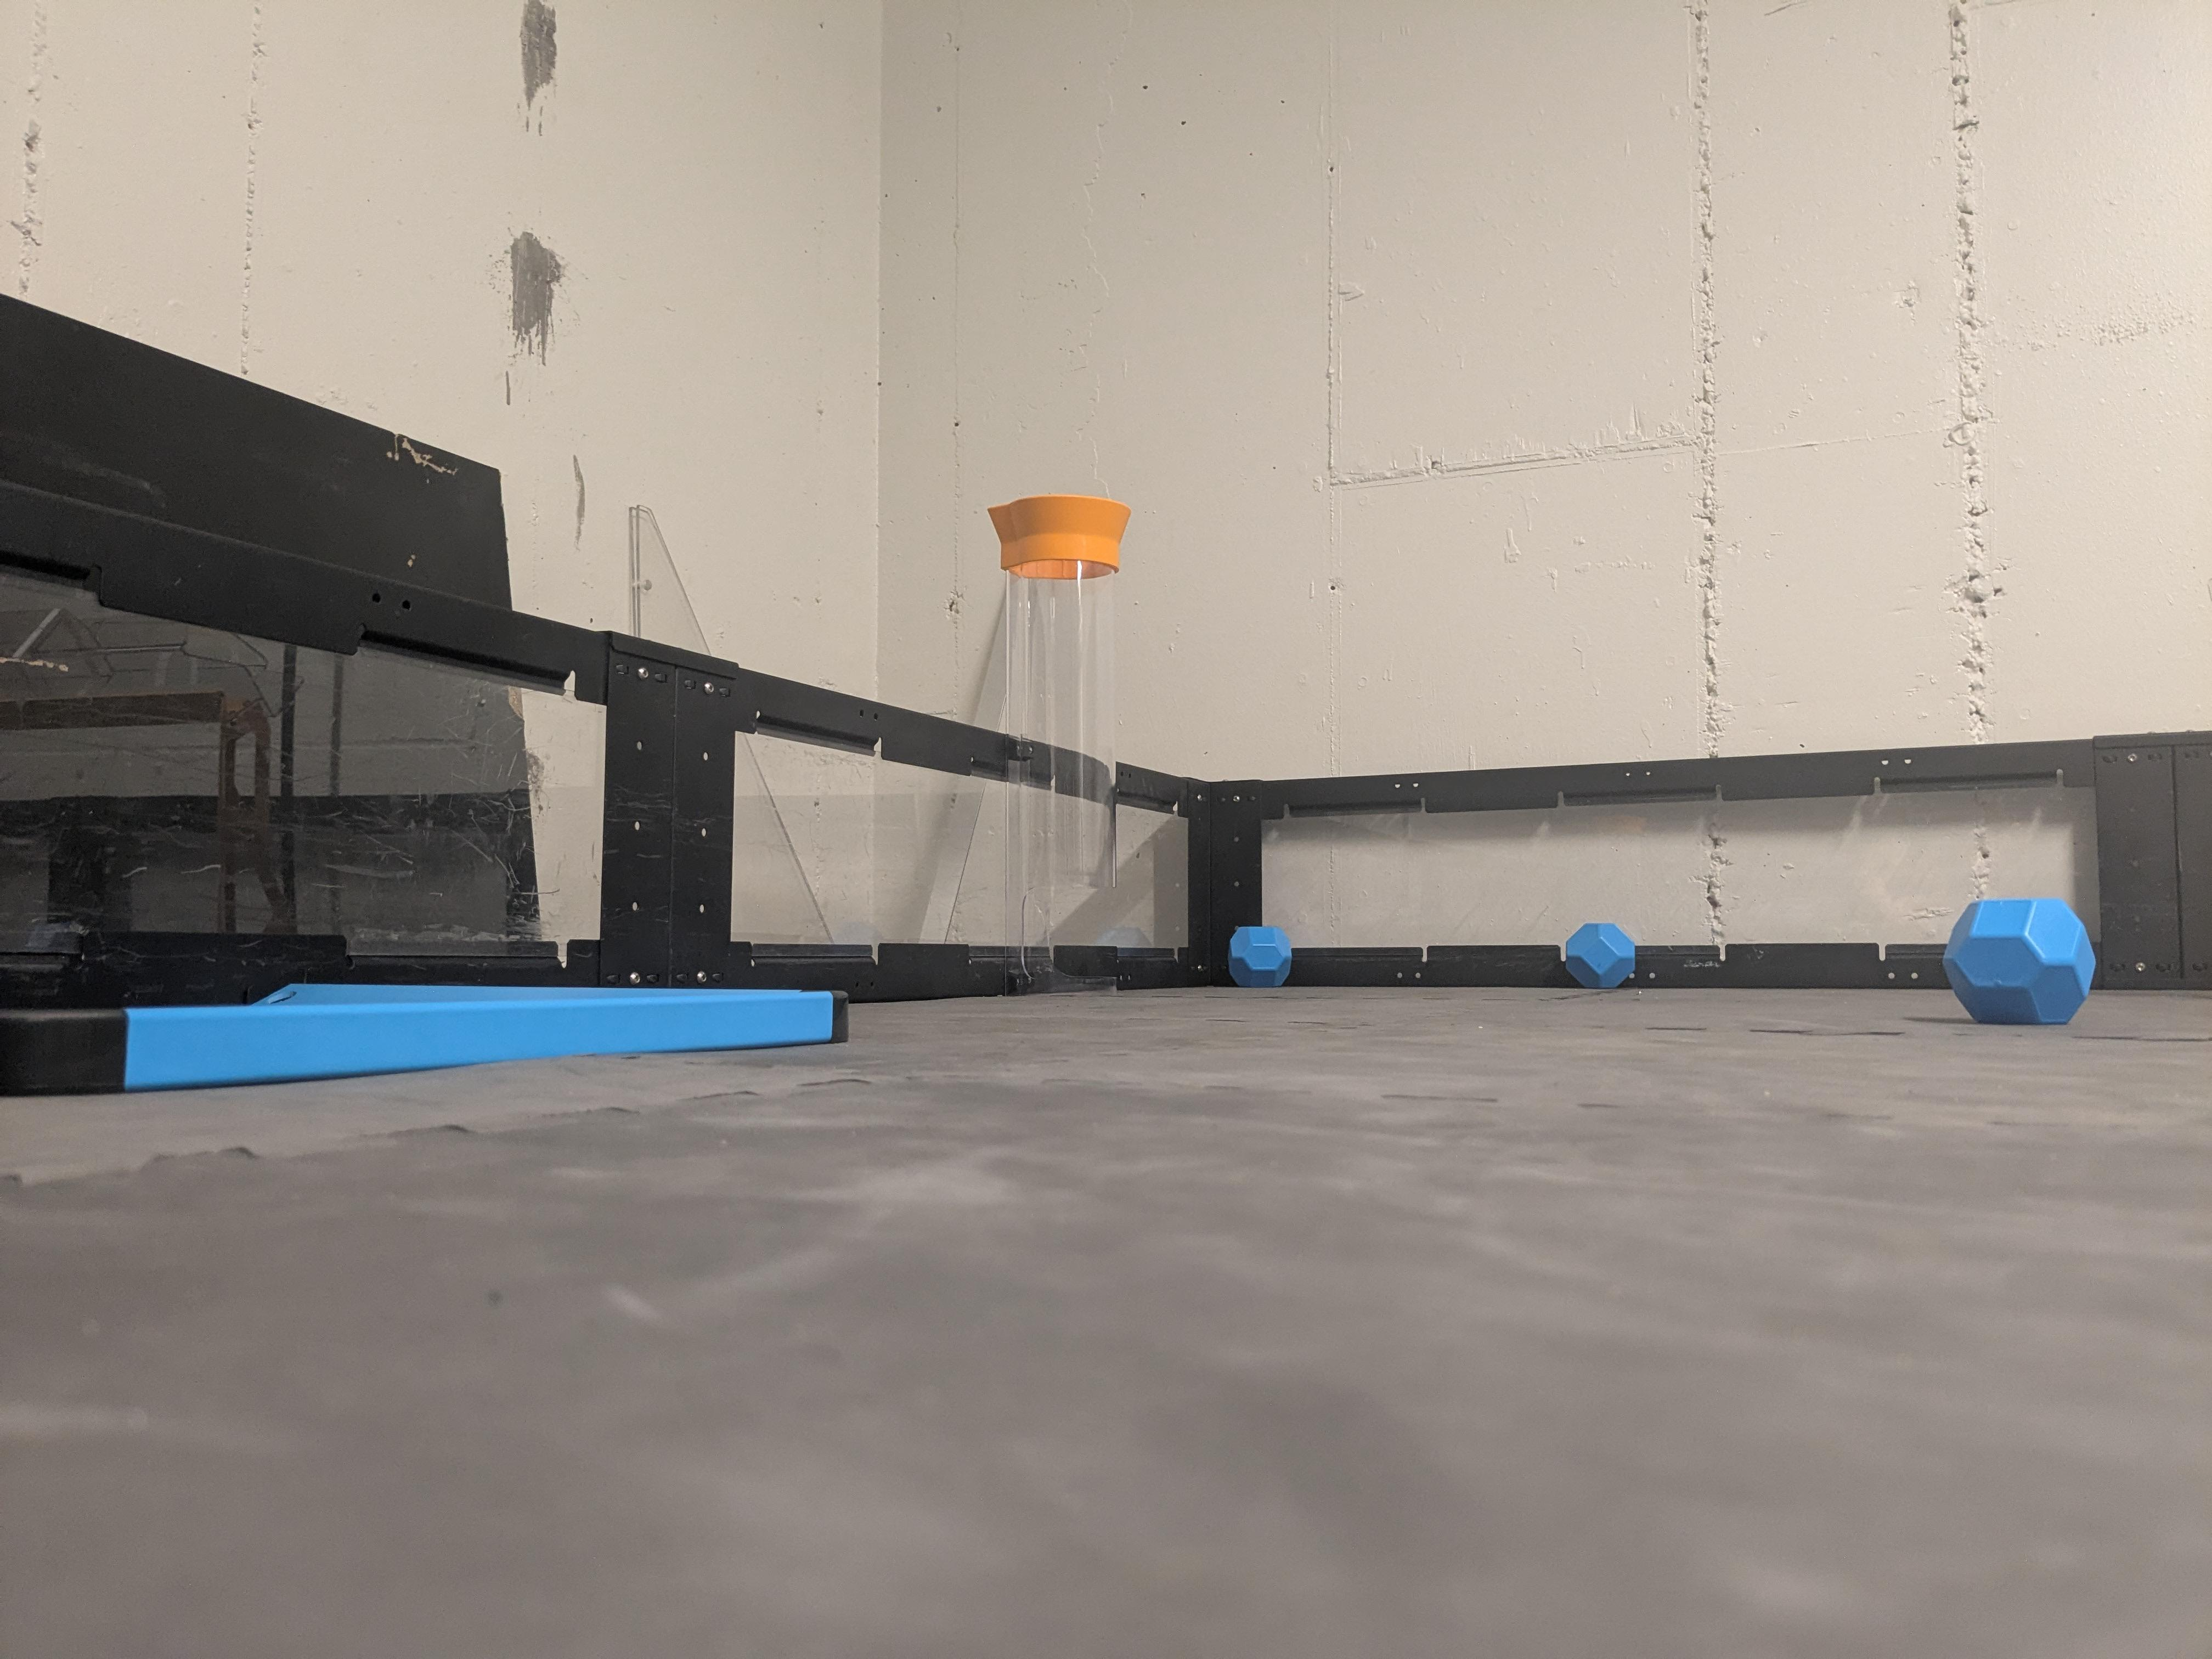Vex-Pieces-BLUE: (1946, 896, 2094, 1026), (1561, 924, 1630, 990), (1230, 925, 1292, 988)
